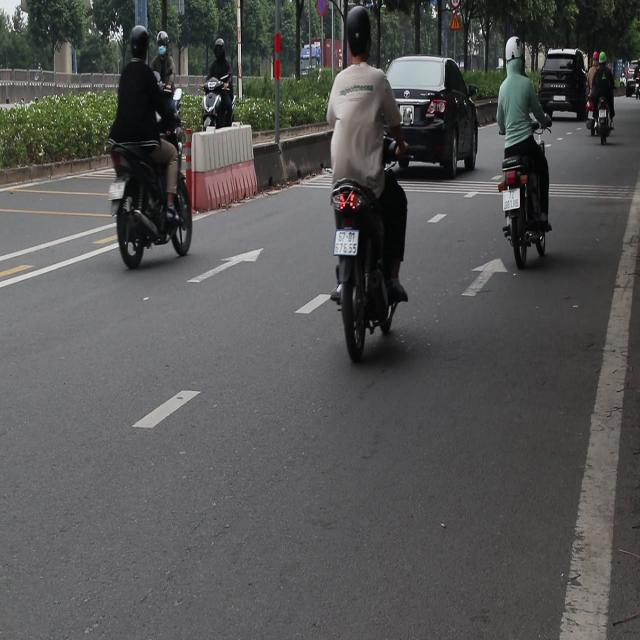car: (384, 55, 481, 180), (537, 47, 589, 121)
motorbike: (322, 165, 411, 378), (121, 156, 198, 266), (495, 146, 548, 272), (198, 67, 236, 157), (154, 71, 182, 144), (598, 86, 618, 156)
